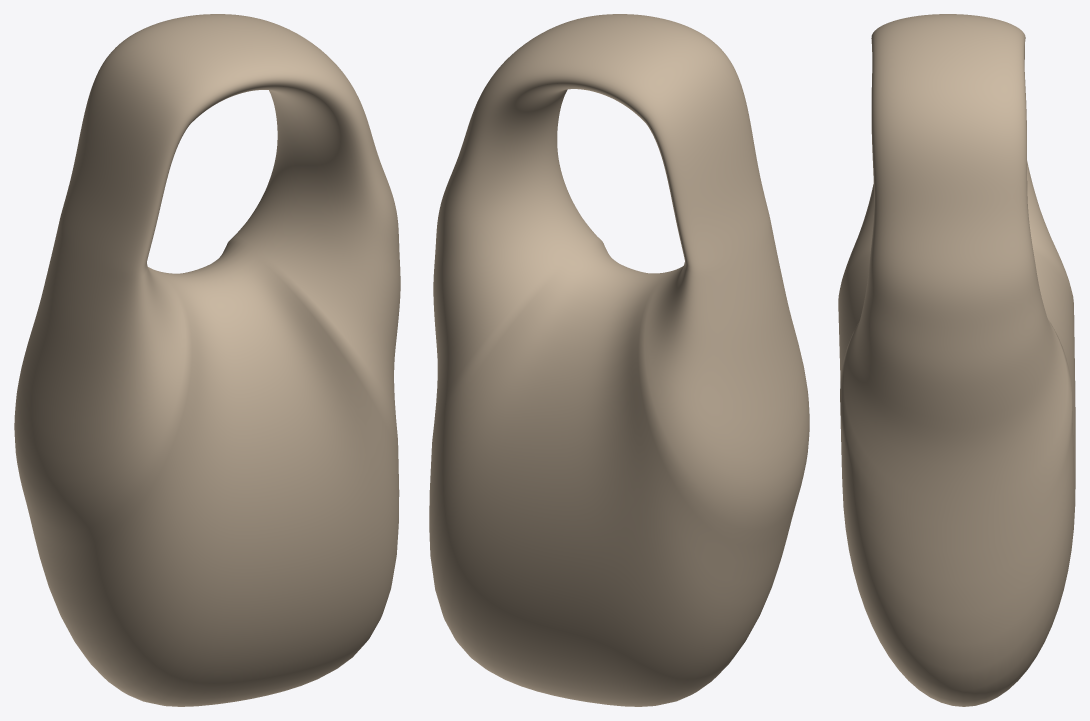
File: unified-sculpture.glb
3 views of the same model, side by side, from view 1: azimuth 30°, elevation 25°; view 2: azimuth 150°, elevation 25°; view 3: azimuth 270°, elevation 25° (orthographic). The views are drawn at different scales.
Parts seen in each view (by area): view 1: Four-image unified sculpture; view 2: Four-image unified sculpture; view 3: Four-image unified sculpture.
Part boxes in pixels (left/top/right/bottom): Four-image unified sculpture: left=14, top=14, right=400, bottom=706; Four-image unified sculpture: left=429, top=14, right=809, bottom=706; Four-image unified sculpture: left=838, top=14, right=1075, bottom=706.
Size of the model in its own units: 1.84 by 3.5 by 1.19.
